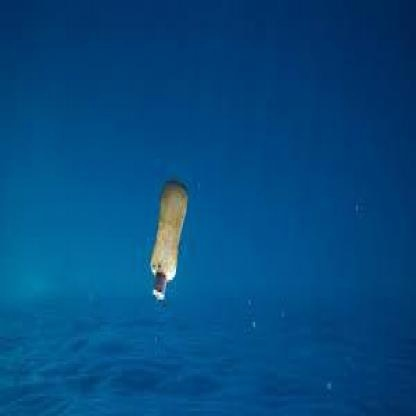pbottle: (136, 163, 193, 312)
